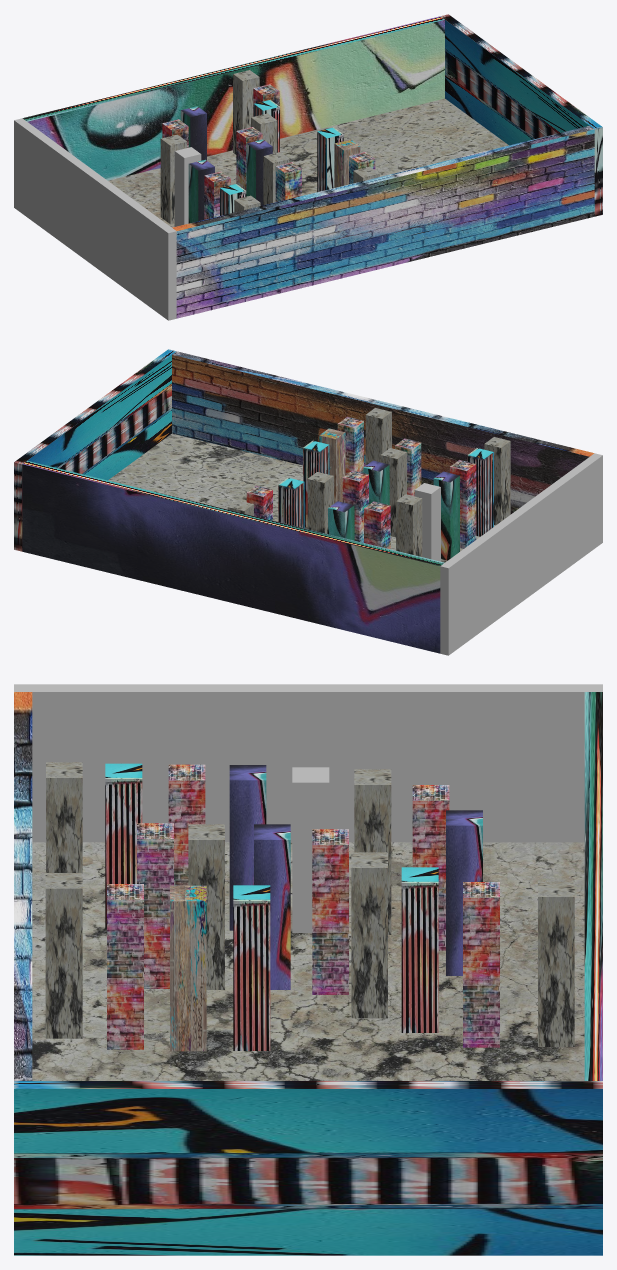
Rendered from arena_v5.dae.
3 renders of one model, top to bottom at view 1: azimuth 30°, elevation 25°; view 2: azimuth 150°, elevation 25°; view 3: azimuth 270°, elevation 25°, orthographic. The views are drawn at different scales.
Visible parts, largest first — view 1: Wall2, Wall1, Wall4, Floor, Wall3, Cube.020, Cube.010, Cube.011, Cube.003, Cube.018, Cube.009, Cube.022 (+11 smaller); view 2: Wall1, Wall2, Wall4, Wall3, Floor, Cube.009, Cube.014, Cube.020, Cube.013, Cube.011, Cube.015, Cube.008 (+12 smaller); view 3: Wall3, Wall4, Floor, Wall2, Wall1, Cube.003, Cube.012, Cube.005, Cube.017, Cube.008, Cube.019, Cube.016 (+13 smaller).
Boxes of the visible parts, x1=… form: Wall2: x1=172, y1=126, x2=594, y2=318; Wall1: x1=22, y1=16, x2=444, y2=180; Wall4: x1=14, y1=118, x2=176, y2=320; Floor: x1=108, y1=98, x2=508, y2=227; Wall3: x1=440, y1=14, x2=602, y2=216; Cube.020: x1=160, y1=134, x2=187, y2=224; Cube.010: x1=233, y1=70, x2=259, y2=154; Cube.011: x1=174, y1=147, x2=201, y2=226; Cube.003: x1=317, y1=127, x2=343, y2=191; Cube.018: x1=246, y1=139, x2=272, y2=205; Cube.009: x1=188, y1=159, x2=214, y2=223; Cube.022: x1=180, y1=106, x2=206, y2=160; Wall1: x1=22, y1=461, x2=444, y2=653; Wall2: x1=172, y1=351, x2=594, y2=514; Wall4: x1=440, y1=453, x2=602, y2=655; Wall3: x1=14, y1=349, x2=176, y2=551; Floor: x1=108, y1=433, x2=495, y2=562; Cube.009: x1=433, y1=471, x2=459, y2=560; Cube.014: x1=467, y1=448, x2=493, y2=536; Cube.020: x1=396, y1=494, x2=422, y2=556; Cube.013: x1=450, y1=460, x2=476, y2=548; Cube.011: x1=414, y1=483, x2=440, y2=561; Cube.015: x1=484, y1=437, x2=510, y2=525; Cube.008: x1=307, y1=472, x2=333, y2=533; Wall3: x1=14, y1=1081, x2=602, y2=1255; Wall4: x1=14, y1=684, x2=602, y2=842; Floor: x1=32, y1=842, x2=584, y2=1080; Wall2: x1=14, y1=692, x2=32, y2=1080; Wall1: x1=584, y1=692, x2=602, y2=1080; Cube.003: x1=233, y1=885, x2=270, y2=1050; Cube.012: x1=45, y1=873, x2=82, y2=1038; Cube.005: x1=401, y1=867, x2=438, y2=1032; Cube.017: x1=170, y1=885, x2=206, y2=1051; Cube.008: x1=351, y1=852, x2=387, y2=1018; Cube.019: x1=312, y1=829, x2=348, y2=994; Cube.016: x1=107, y1=884, x2=143, y2=1049.
Size of the model in its own units: 26 by 16 by 5.
